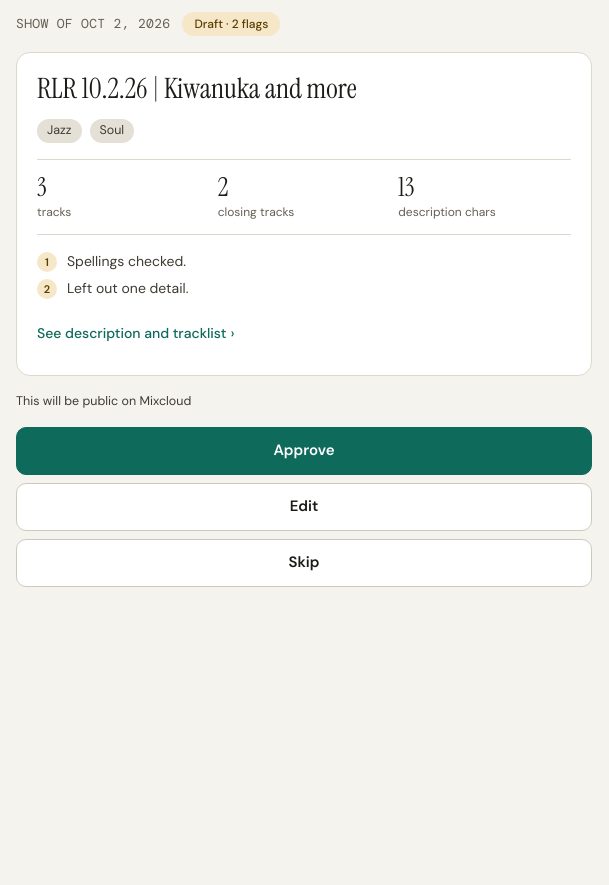
Test: PackageDecision: edit description › the private sources show under the description, marked not published
Click the button "See description and tracklist ›": [136, 333] box 37,311 -> 234,355
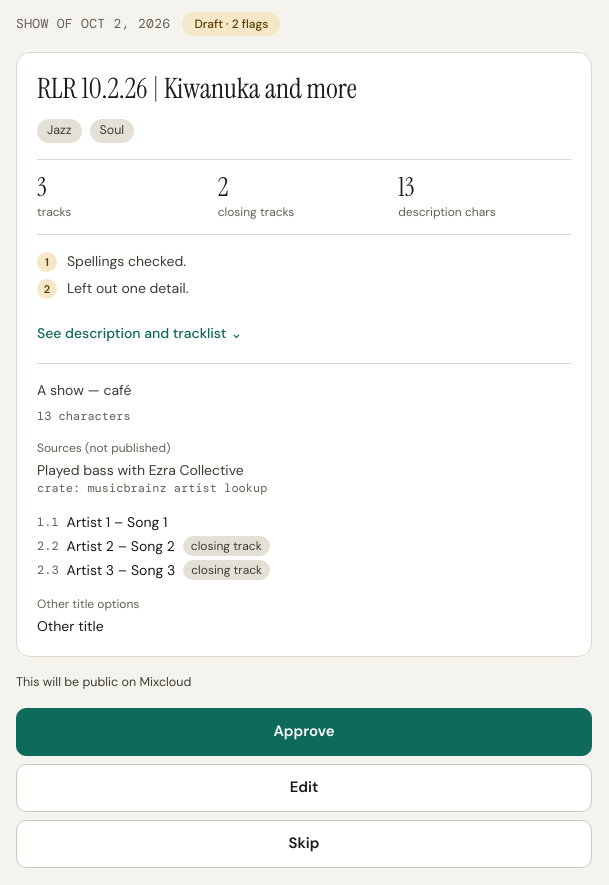
Now the text "Sources (not published)" is shown, box 37,440 -> 170,456
Now the text "Played bass with Ezra Collective" is shown, box 37,461 -> 244,479
Now the text "crate: musicbrainz artist lookup" is shown, box 37,480 -> 267,496
